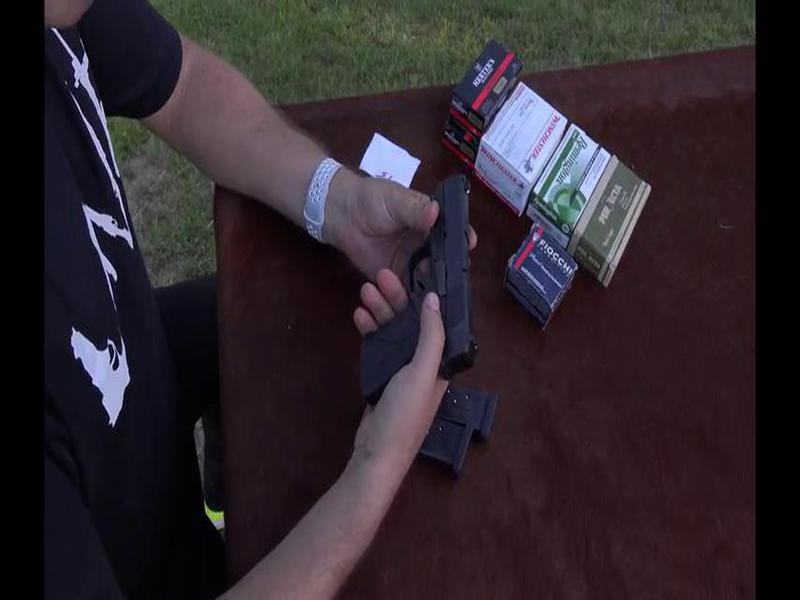Pistola: (340, 154, 496, 391)
